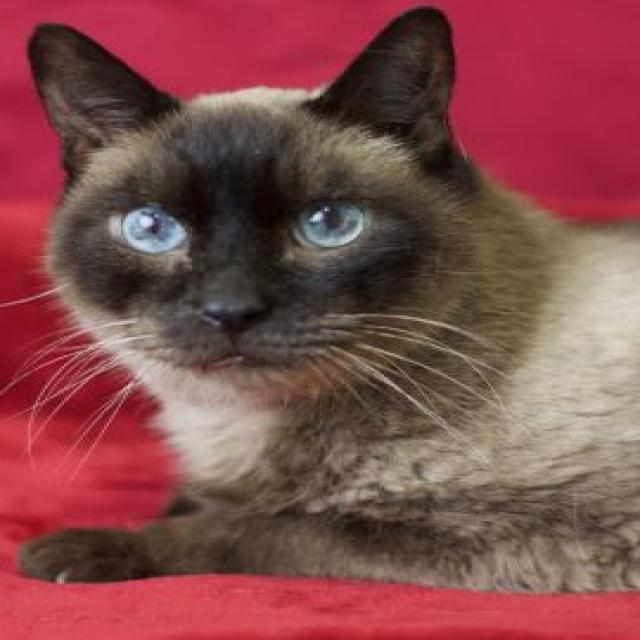Siamese: (7, 0, 640, 599)
